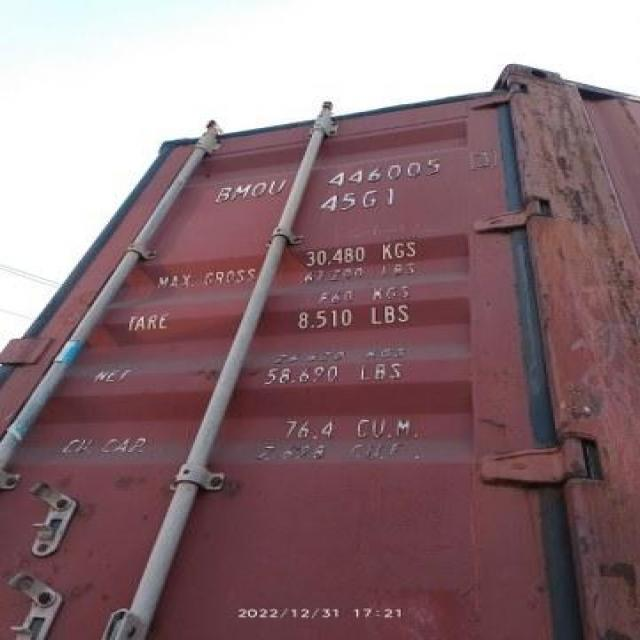container_number_h: (155, 134, 509, 215)
